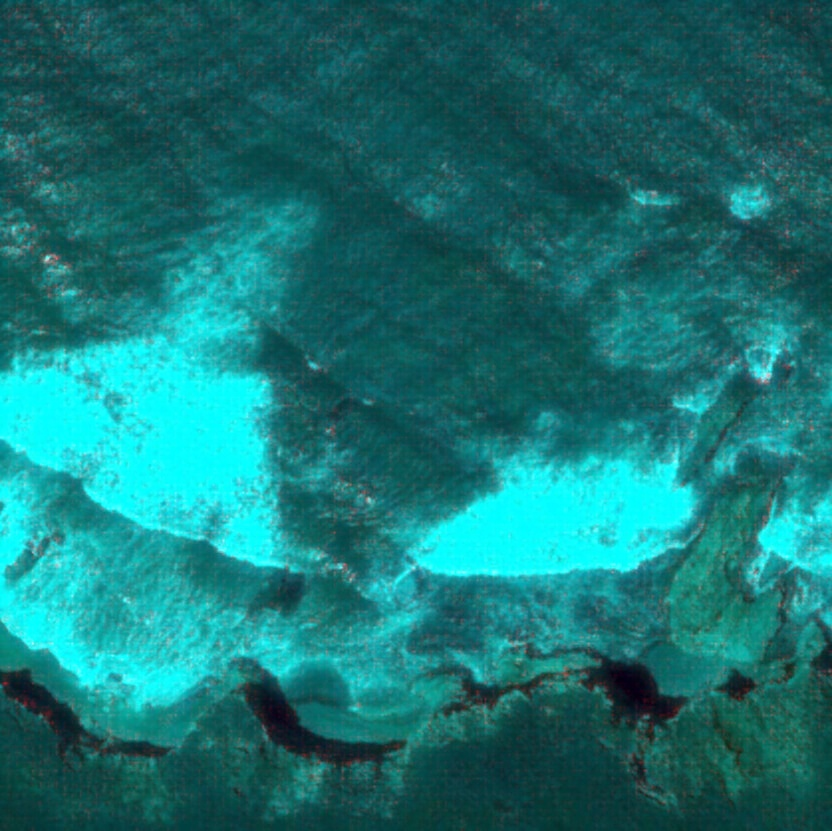rip_current: (210, 166, 565, 541)
